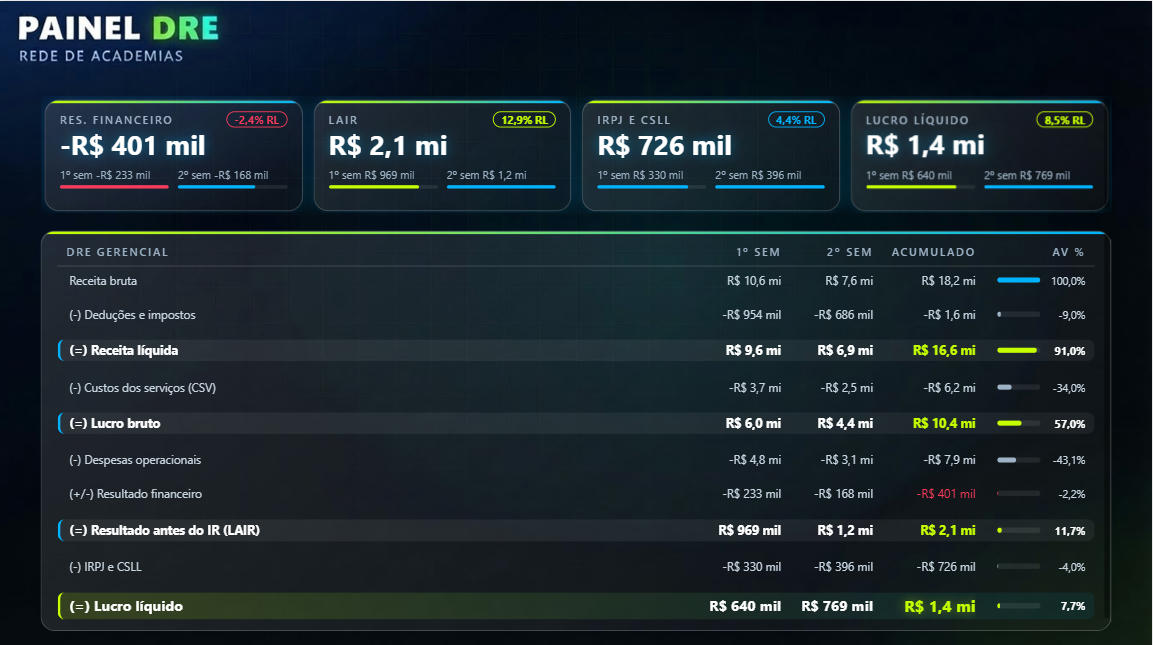

The dashboard page shown, as its layout file describes it:
{"tool":"powerbi","page":{"name":"Painel Dre","canvas":[1280,720],"ordinal":1},"visuals":[{"type":"htmlContent443BE3AD55E043BF878BED274D3A6855","fields":{"content":["_Medidas.HTML DRE Cartões"]},"box":[40,100,1200,140],"z":0},{"type":"htmlContent443BE3AD55E043BF878BED274D3A6855","fields":{"content":["_Medidas.HTML DRE"]},"box":[40,250,1200,455],"z":1},{"type":"slicer","fields":{"Values":["dUnidades.Unidade"]},"box":[326.7,0,408.9,100],"z":2},{"type":"actionButton","box":[847.8,10,270,40],"z":3}]}

Visuals, with their boxes in screenshot pixels (x1, y1, x2, y2), scaled from the page's 1280x720 canvas onto the 1153x645 screenshot:
htmlContent443BE3AD55E043BF878BED274D3A6855 - _Medidas.HTML DRE Cartões: locate(36, 90, 1117, 215)
htmlContent443BE3AD55E043BF878BED274D3A6855 - _Medidas.HTML DRE: locate(36, 224, 1117, 632)
slicer - dUnidades.Unidade: locate(294, 0, 663, 90)
actionButton: locate(764, 9, 1007, 45)
